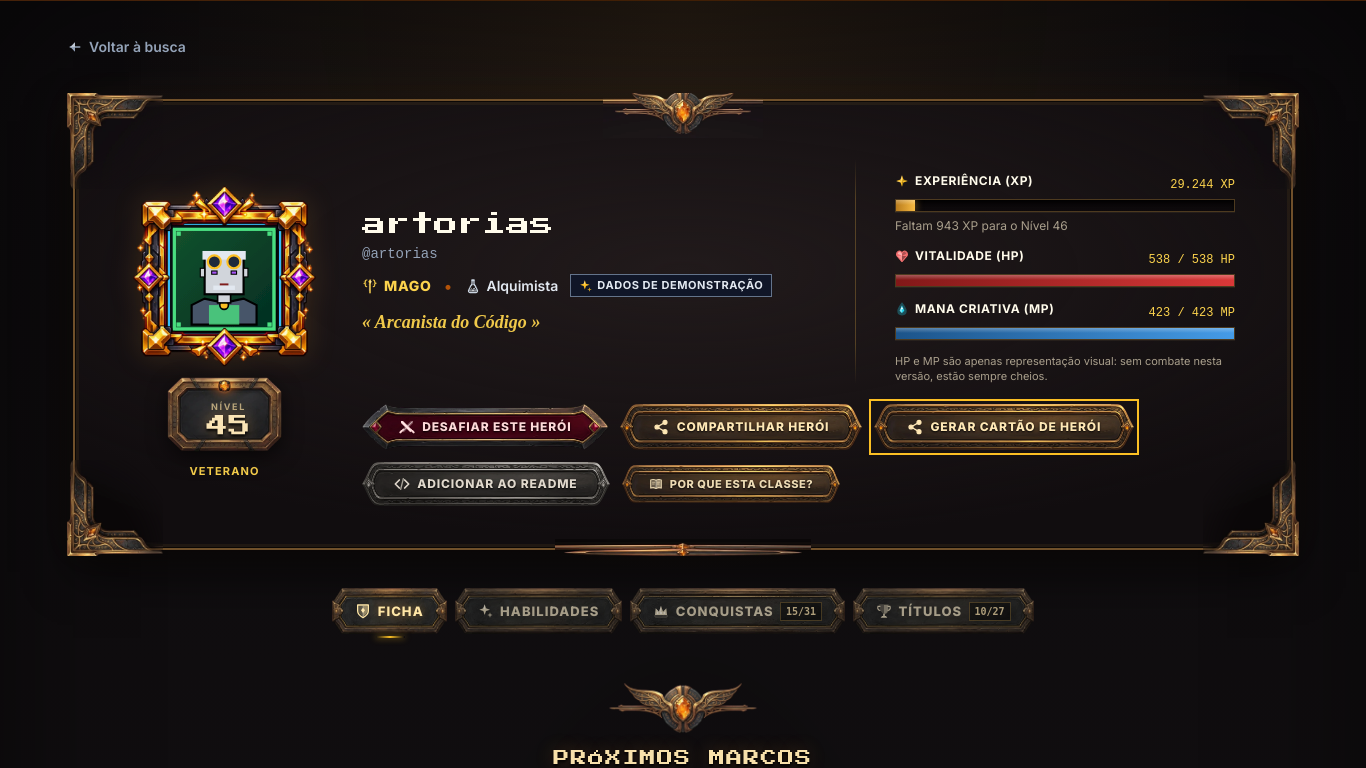
CharacterPageClient: share modal › is not mounted until it is opened, then restores focus to the opener when closed
Click the button "Gerar Cartão de Herói" at (1004, 427), box [874, 404, 1134, 450]
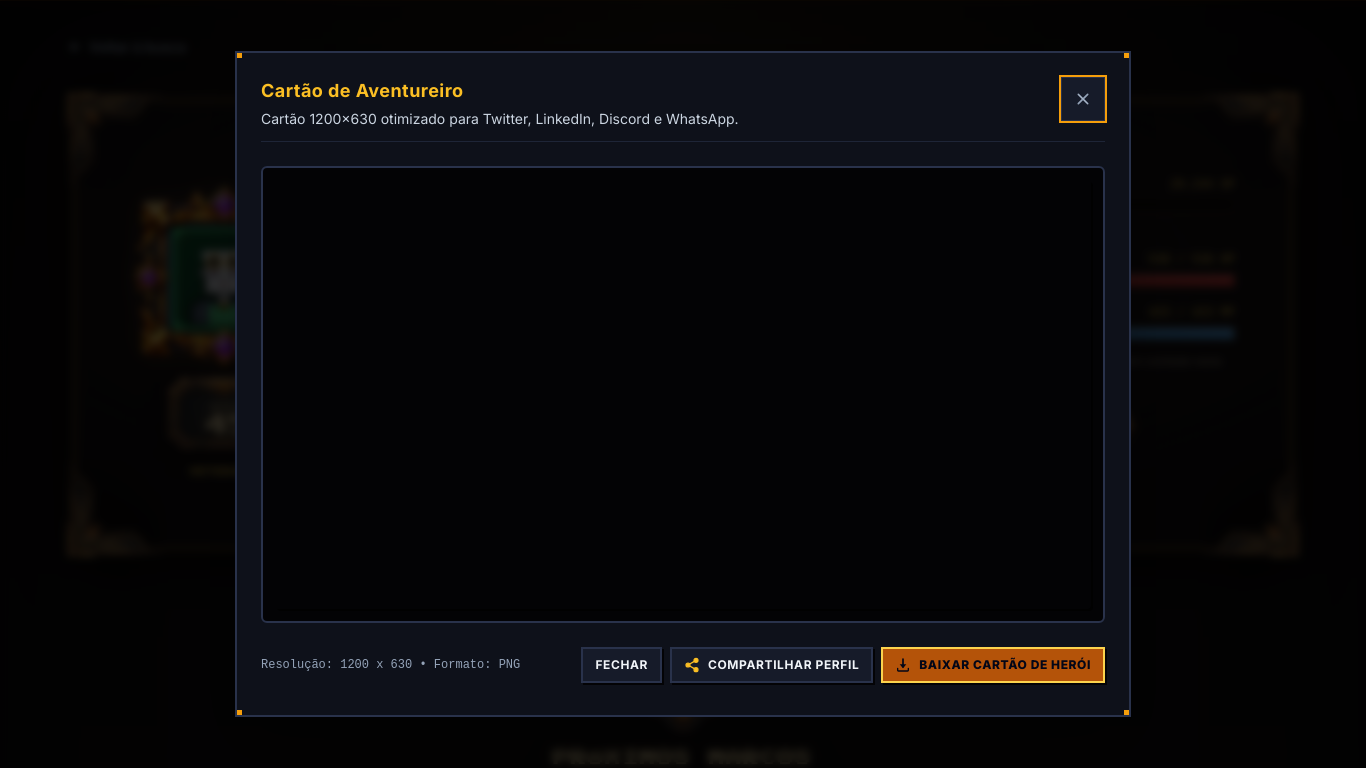
Now the dialog "Cartão de Aventureiro" is shown, box [235, 51, 1131, 717]
Now the button "Compartilhar perfil" is shown, box [670, 647, 873, 683]
Press Escape in the button named "Fechar janela", box [1061, 77, 1105, 121]
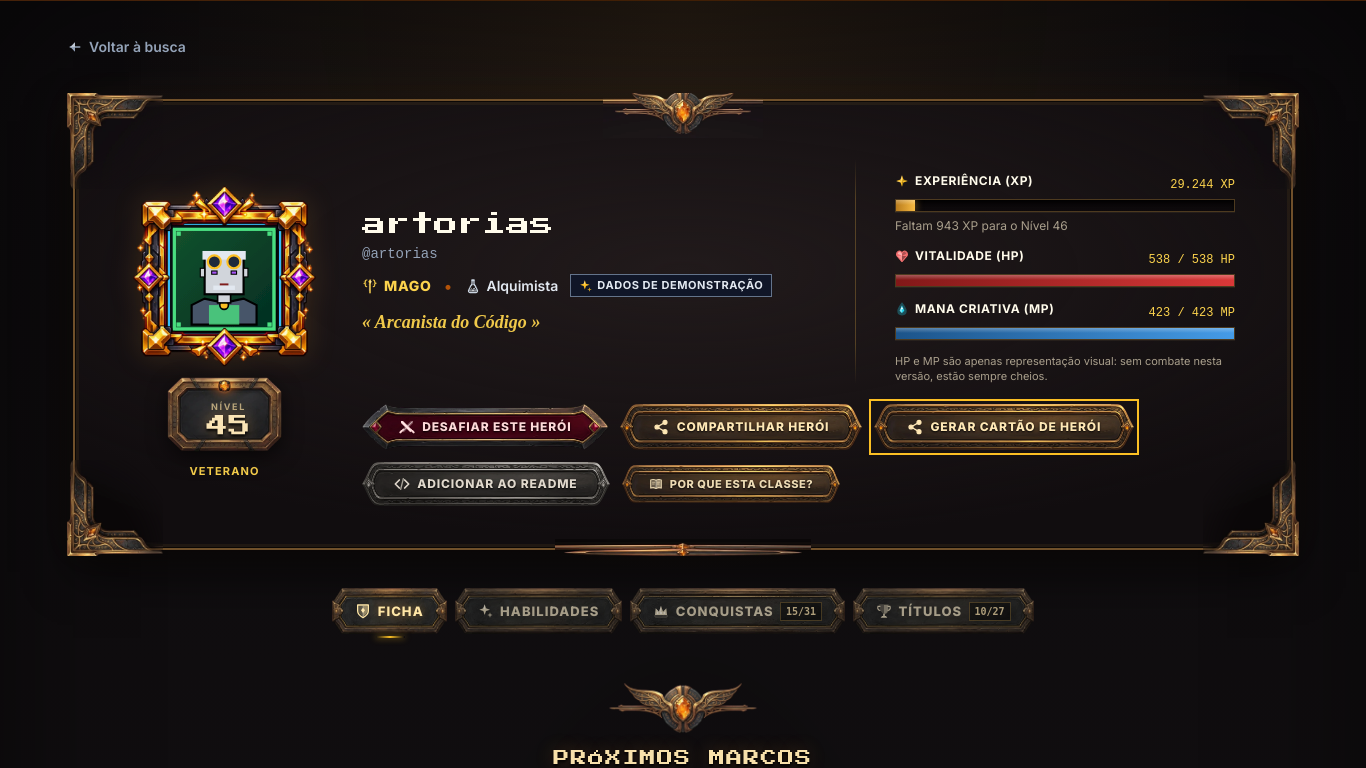
Now the dialog is gone
